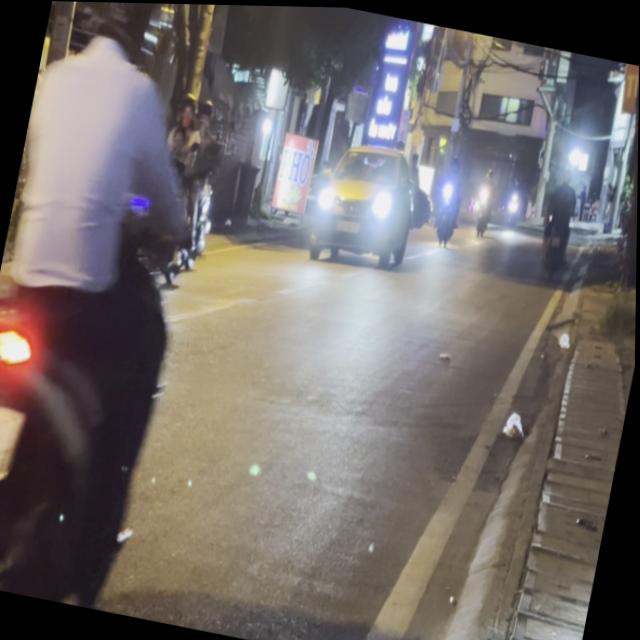helmet: (80, 1, 162, 63)
licenseplate: (0, 0, 247, 616)
nohelmet: (0, 401, 23, 484)
